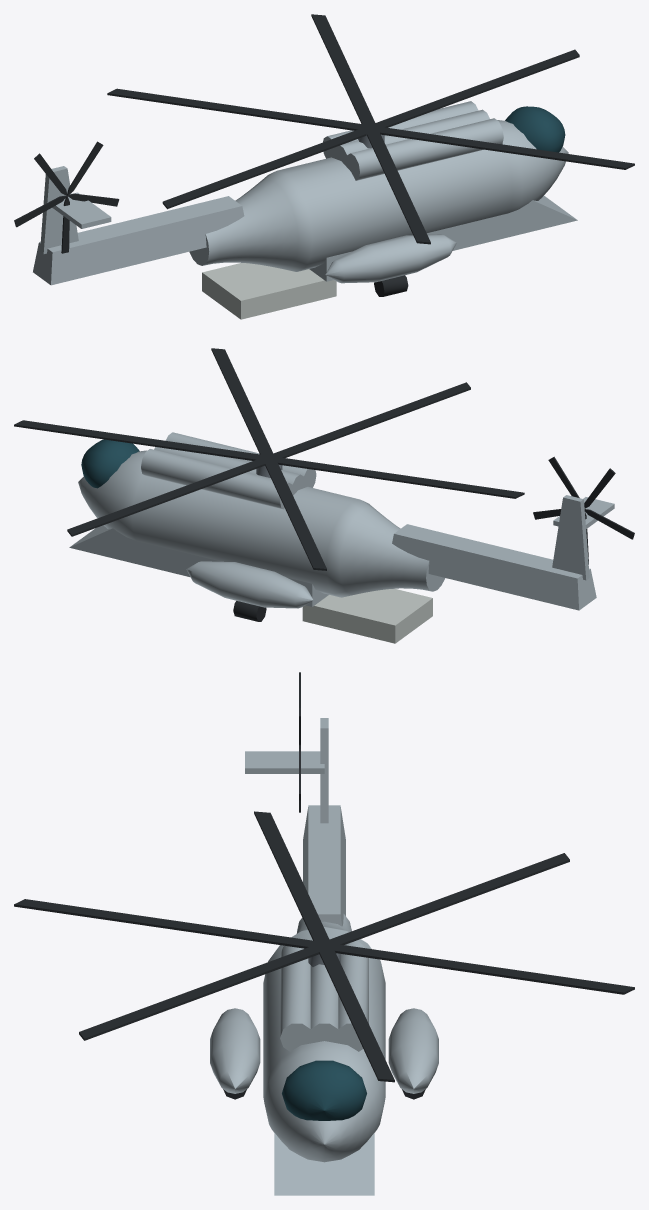
Rendered from pla_aew_z18j.glb.
The picture shows the model from 3 angles, top to bottom: view 1: azimuth 30°, elevation 25°; view 2: azimuth 150°, elevation 25°; view 3: azimuth 270°, elevation 25°; orthographic projection. The views are drawn at different scales.
Parts seen in each view (by area): view 1: naval_paint, rubber, array_face, glazing; view 2: naval_paint, rubber, array_face, glazing; view 3: naval_paint, rubber, glazing.
Boxes of the visible parts, x1,y1,x2,y2 form: naval_paint: [33, 101, 577, 285]; rubber: [14, 14, 634, 296]; array_face: [202, 263, 336, 319]; glazing: [505, 106, 565, 152]; naval_paint: [69, 432, 614, 610]; rubber: [14, 348, 634, 621]; array_face: [302, 588, 432, 643]; glazing: [81, 439, 139, 488]; naval_paint: [210, 718, 438, 1195]; rubber: [14, 672, 634, 1099]; glazing: [282, 1060, 366, 1120].
Bounding box in the file's own units: 10 × 3.28 × 7.6.
